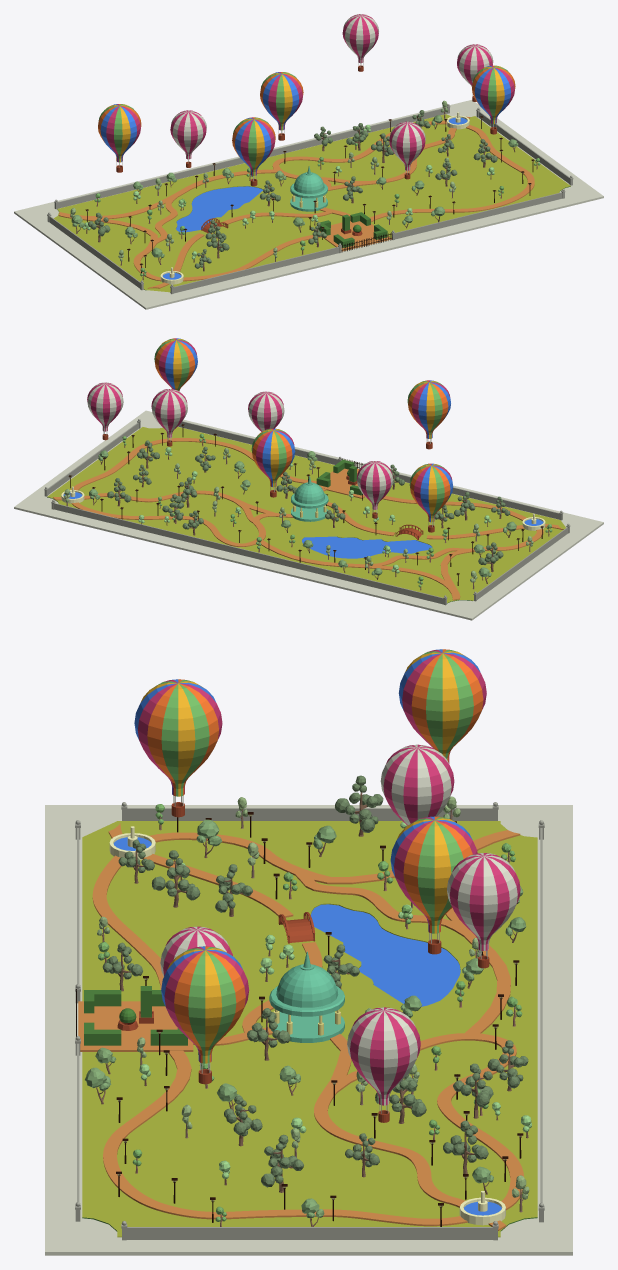
File: D4_BALLOON_PARK.fbx
The picture shows the model from 3 angles, top to bottom: view 1: azimuth 30°, elevation 25°; view 2: azimuth 150°, elevation 25°; view 3: azimuth 270°, elevation 25°; orthographic projection. The views are drawn at different scales.
Visible parts, largest first — view 1: Plane.018, Plane.017, NurbsPath.002, Cube.304, Sphere.005, Sphere.006, Sphere.007, Sphere.002, Cube.303, Sphere.004, Sphere.011, Cube.302 (+7 smaller); view 2: Plane.018, Plane.017, NurbsPath.002, Cube.304, Sphere.006, Sphere.002, Sphere.005, Sphere.007, Sphere.011, Sphere.009, Sphere.012, Cylinder.158 (+7 smaller); view 3: Plane.018, Plane.017, NurbsPath.002, Sphere.007, Sphere.005, Sphere.002, Sphere.006, Sphere.009, Sphere.011, Cube.306, Cylinder.158, Sphere.012 (+18 smaller).
Boxes of the visible parts, box(x1,y1,x2,y2) form: Plane.018: box(54, 114, 570, 292); Plane.017: box(14, 100, 603, 309); NurbsPath.002: box(58, 116, 534, 288); Cube.304: box(54, 104, 450, 209); Sphere.005: box(232, 117, 275, 186); Sphere.006: box(260, 72, 303, 140); Sphere.007: box(472, 65, 515, 134); Sphere.002: box(98, 104, 141, 172); Cube.303: box(391, 189, 565, 240); Sphere.004: box(389, 121, 425, 179); Sphere.011: box(342, 14, 378, 71); Cube.302: box(170, 243, 341, 294); Plane.018: box(47, 426, 565, 603); Plane.017: box(14, 410, 603, 620); NurbsPath.002: box(53, 438, 563, 600); Cube.304: box(51, 499, 447, 605); Sphere.006: box(251, 428, 295, 497); Sphere.002: box(409, 463, 453, 532); Sphere.005: box(407, 380, 450, 449); Sphere.007: box(154, 338, 197, 391); Sphere.011: box(151, 389, 187, 446); Sphere.009: box(87, 382, 123, 440); Sphere.012: box(356, 461, 393, 518); Cylinder.158: box(291, 476, 328, 521); Plane.018: box(82, 821, 537, 1237); Plane.017: box(45, 805, 572, 1255); NurbsPath.002: box(92, 823, 523, 1230); Sphere.007: box(161, 946, 249, 1084); Sphere.005: box(134, 679, 222, 817); Sphere.002: box(398, 649, 486, 763); Sphere.006: box(390, 816, 477, 954); Sphere.009: box(347, 1007, 420, 1122); Sphere.011: box(447, 853, 520, 968); Cube.306: box(121, 1221, 498, 1240); Cylinder.158: box(269, 951, 344, 1042); Sphere.012: box(380, 744, 454, 825).
Bounding box in the file's own units: 20850 × 5857 × 10400.
Materials: 14 (1 with a texture image).
